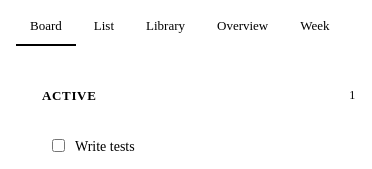
Test: VaultWorkspace › renders the plugin view with a working view context when its tab is active
Click the tab "Week" at (315, 27), box [286,8,344,46]
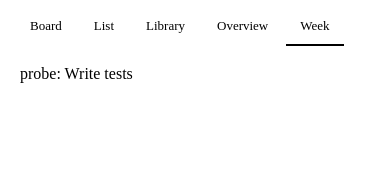
Now the text with test id "plugin-view-probe" shows "Write tests", box [20,65,133,82]
